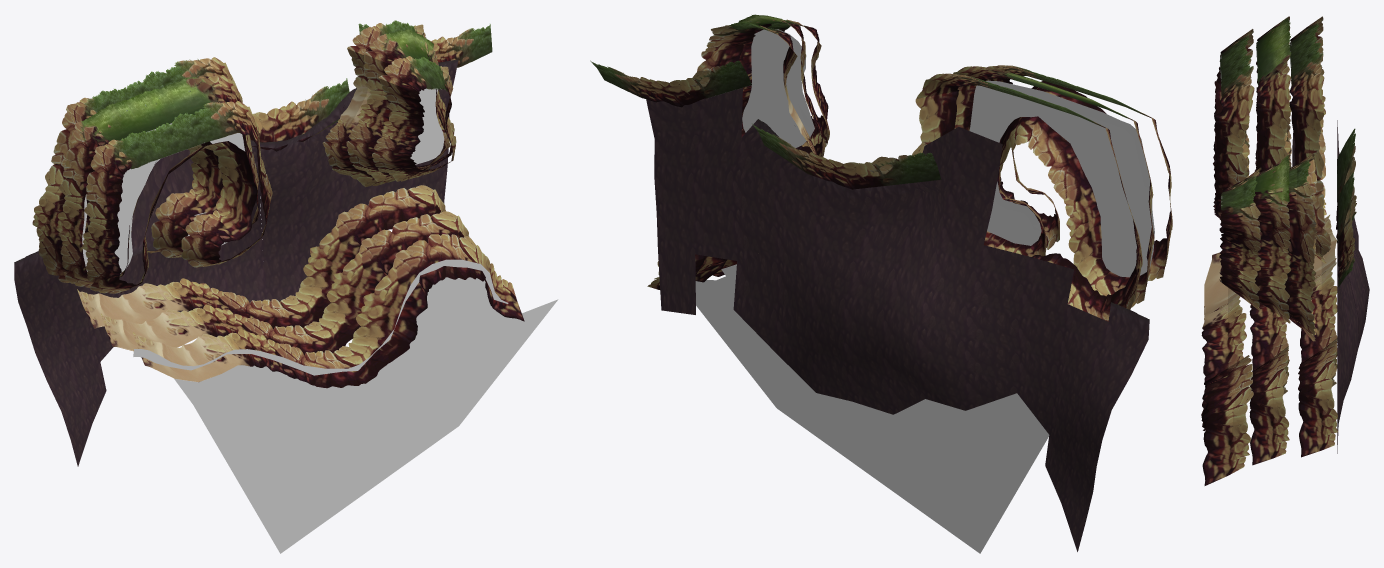
File: LVL12 Pt2.FBX
3 renders of one model, left to right at view 1: azimuth 30°, elevation 25°; view 2: azimuth 150°, elevation 25°; view 3: azimuth 270°, elevation 25°, orthographic. The views are drawn at different scales.
Visible parts, largest first — view 1: LVL 12 Black Pt 2_2, LVL12 RockToSand Pt2_2 FG, LVL 12 Dirt BG Pt 2_1, LVL 12 Dirt BG Pt 2_2, LVL12 RockToSand Pt2_2 BG, LVL12 RockToSand Pt2_2, LVL12 RockToSand Pt2_1 FG, LVL12 RockToSand Pt2_1, LVL12 GrassToRock Pt2_1, LVL12 GrassToRock Pt2_1 FG, LVL12 RockToSand Pt2_3 FG, LVL12 RockToSand Pt2_3 (+11 smaller); view 2: LVL 12 Dirt BG Pt 2_1, LVL 12 Dirt BG Pt 2_2, LVL 12 Black Pt 2_2, LVL 12 Black Pt 2_1, LVL12 RockToSand Pt2_1, LVL 12 Black Pt 2_3, LVL 12 Dirt BG Edge Pt 2_1, LVL12 RockToSand Pt2_1 BG, LVL 12 Dirt BG Edge Pt 2_2, LVL12 RockToSand Pt2_1 FG, LVL12 GrassToRock Pt2_1 BG, LVL12 RockToSand Pt2_3 BG (+5 smaller); view 3: LVL12 RockToSand Pt2_2 FG, LVL12 RockToSand Pt2_2 BG, LVL12 RockToSand Pt2_2, LVL12 RockToSand Pt2_3 BG, LVL12 RockToSand Pt2_1 BG, LVL12 RockToSand Pt2_3, LVL12 RockToSand Pt2_1 FG, LVL12 GrassToRock Pt2_1, LVL12 GrassToRock Pt2_1 FG, LVL12 GrassToRock Pt2_1 BG, LVL12 RockToSand Pt2_3 FG, LVL 12 Dirt BG Pt 2_2 (+7 smaller).
Part boxes in pixels (x1,y1,x2,y2): LVL 12 Black Pt 2_2: (133,259,558,553); LVL12 RockToSand Pt2_2 FG: (133,234,524,388); LVL 12 Dirt BG Pt 2_1: (14,140,267,466); LVL 12 Dirt BG Pt 2_2: (260,59,458,301); LVL12 RockToSand Pt2_2 BG: (77,185,445,329); LVL12 RockToSand Pt2_2: (101,211,469,355); LVL12 RockToSand Pt2_1 FG: (82,128,272,293); LVL12 RockToSand Pt2_1: (56,97,258,287); LVL12 GrassToRock Pt2_1: (67,75,241,158); LVL12 GrassToRock Pt2_1 FG: (87,101,258,185); LVL12 RockToSand Pt2_3 FG: (372,78,456,181); LVL12 RockToSand Pt2_3: (346,54,454,181); LVL 12 Dirt BG Pt 2_1: (843,127,1149,551); LVL 12 Dirt BG Pt 2_2: (646,88,872,401); LVL 12 Black Pt 2_2: (695,264,1049,553); LVL 12 Black Pt 2_1: (969,80,1154,277); LVL12 RockToSand Pt2_1: (954,85,1154,307); LVL 12 Black Pt 2_3: (742,29,814,147); LVL 12 Dirt BG Edge Pt 2_1: (752,123,941,189); LVL12 RockToSand Pt2_1 BG: (912,91,1142,321); LVL 12 Dirt BG Edge Pt 2_2: (590,60,751,107); LVL12 RockToSand Pt2_1 FG: (997,81,1172,280); LVL12 GrassToRock Pt2_1 BG: (916,73,1115,160); LVL12 RockToSand Pt2_3 BG: (697,44,817,154); LVL12 RockToSand Pt2_2 FG: (1201,252,1253,485); LVL12 RockToSand Pt2_2 BG: (1298,215,1338,457); LVL12 RockToSand Pt2_2: (1249,303,1289,465); LVL12 RockToSand Pt2_3 BG: (1284,159,1317,341); LVL12 RockToSand Pt2_1 BG: (1289,40,1331,263); LVL12 RockToSand Pt2_3: (1255,160,1291,323); LVL12 RockToSand Pt2_1 FG: (1213,52,1252,218); LVL12 GrassToRock Pt2_1: (1256,16,1291,112); LVL12 GrassToRock Pt2_1 FG: (1214,29,1254,125); LVL12 GrassToRock Pt2_1 BG: (1289,16,1324,112); LVL12 RockToSand Pt2_3 FG: (1219,197,1261,310); LVL 12 Dirt BG Pt 2_2: (1337,229,1357,453).
Size of the model in its own units: 5519 by 1641 by 5091.
Materials: 4 (4 with a texture image).
